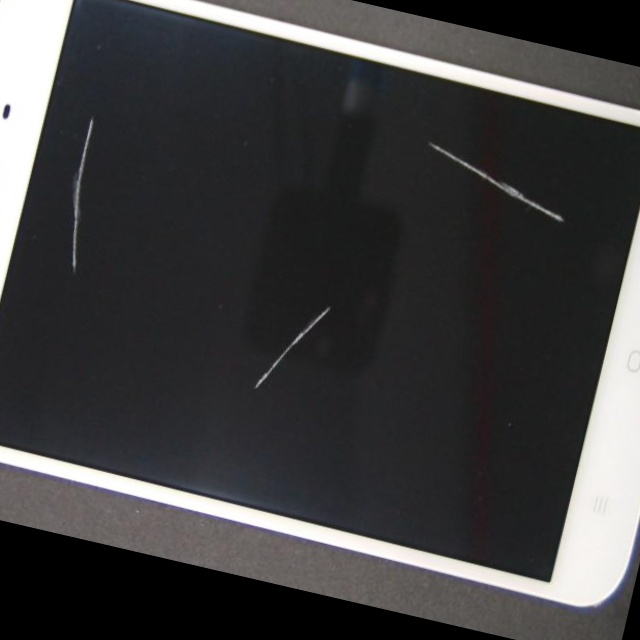scratch: (130, 45, 541, 520), (350, 118, 640, 299), (21, 119, 176, 295)
